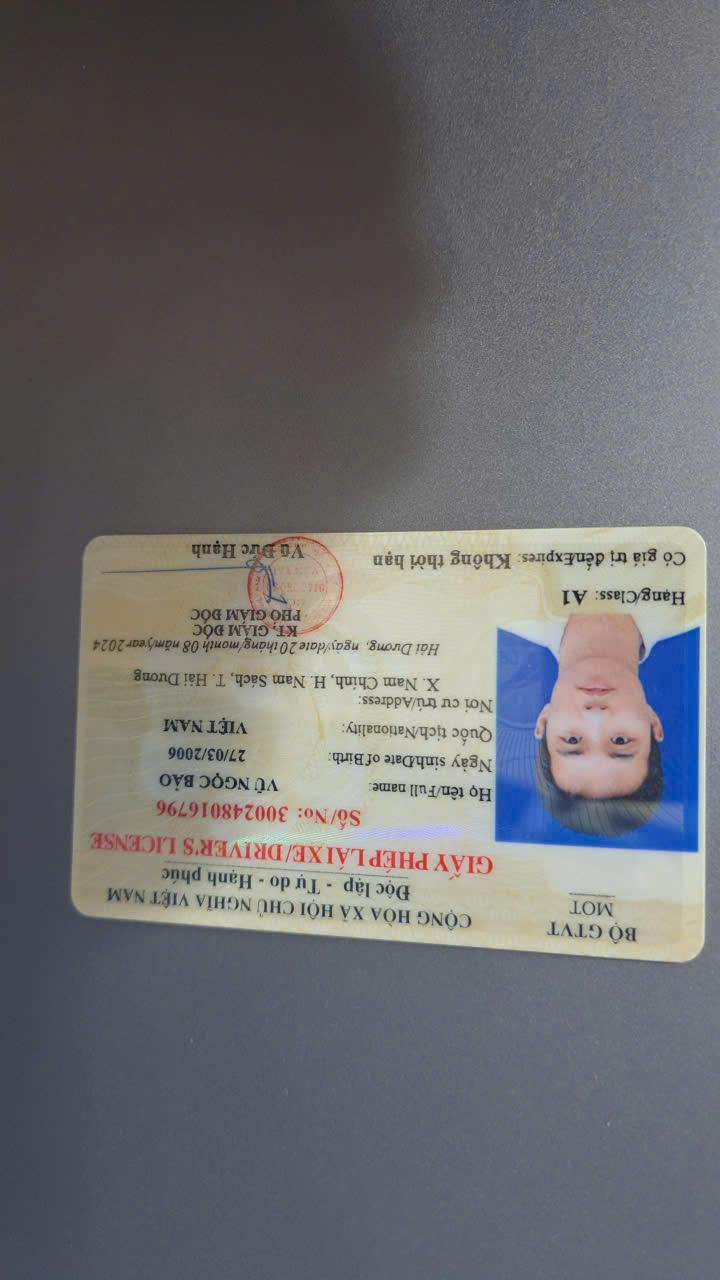gplx: (64, 521, 712, 967)
